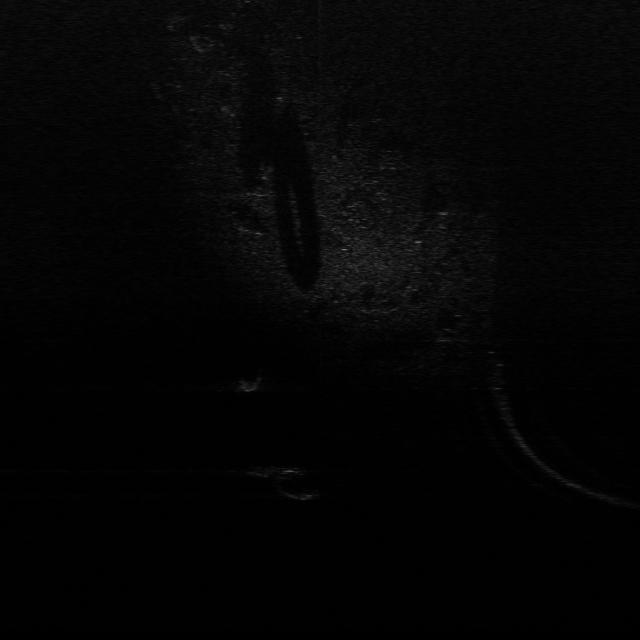cube: (240, 462, 286, 480)
square cage: (232, 371, 266, 392)
tyre: (270, 466, 324, 502)
